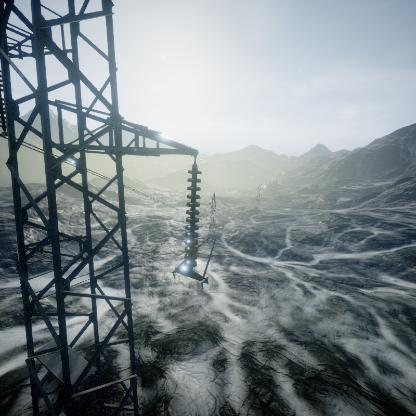insulator: (184, 164, 202, 269)
